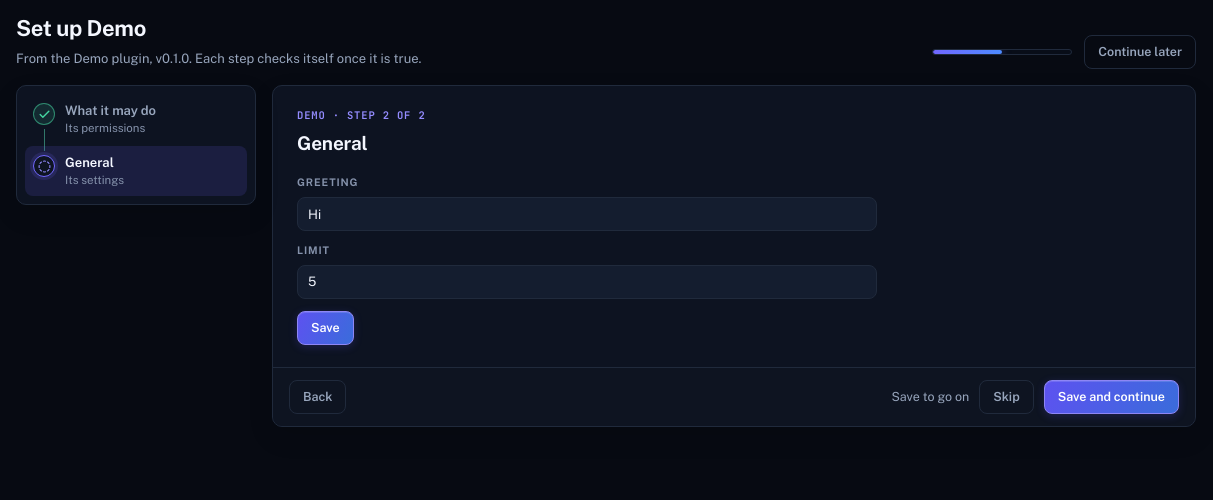
Scenario: a settings step › stays, saying why, when the save fails
Click the button "Save and continue".
click(1111, 397)  # box x1=1044 y1=380 x2=1179 y2=414
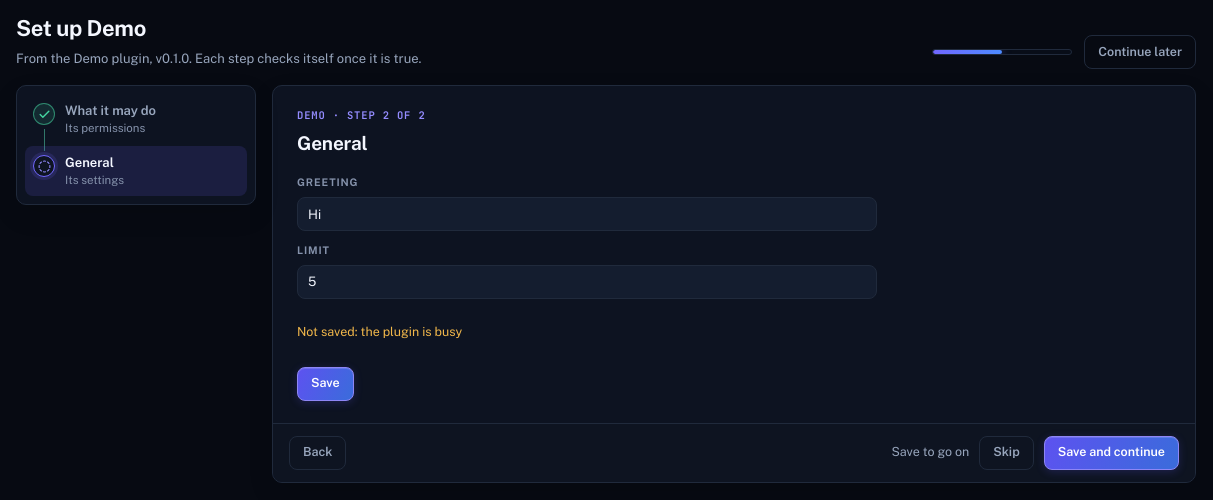
Expected: the text "Not saved: the plugin is busy" is shown, x1=297 y1=324 x2=462 y2=339
